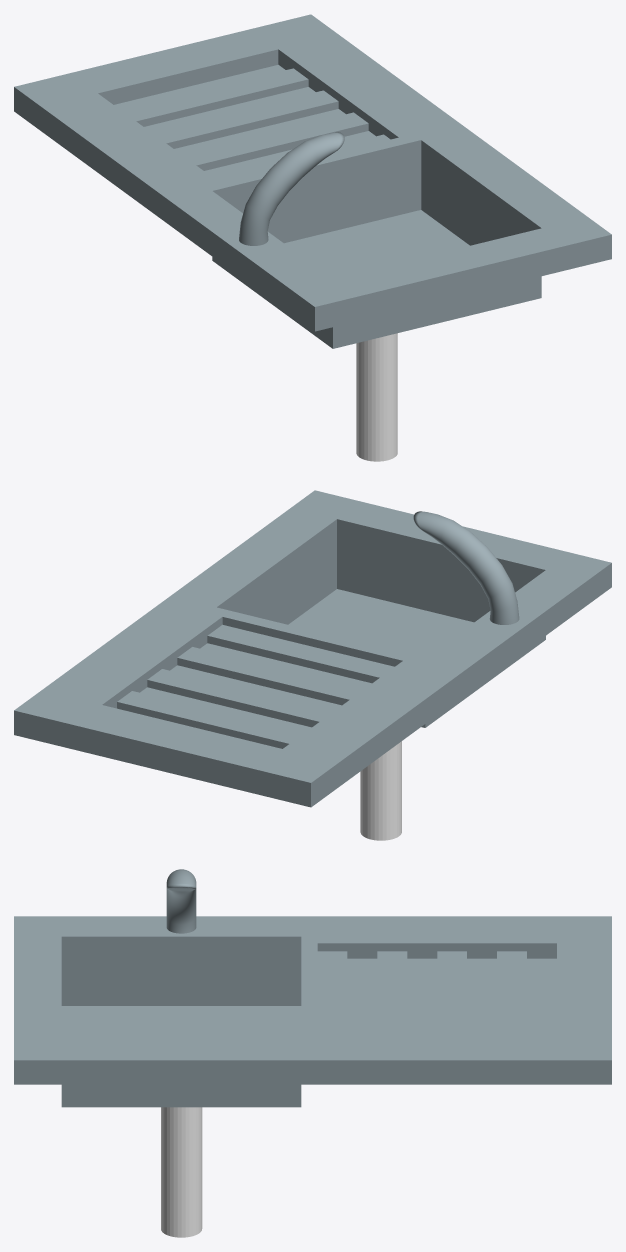
Rendered from Kitchen Sink.fbx.
3 views of the same model, one above another, from view 1: azimuth 30°, elevation 25°; view 2: azimuth 150°, elevation 25°; view 3: azimuth 270°, elevation 25° (orthographic).
Parts seen in each view (by area): view 1: Plane; view 2: Plane; view 3: Plane.
Part boxes in pixels (x1,y1,x2,y2): Plane: [14, 14, 611, 461]; Plane: [14, 490, 611, 840]; Plane: [14, 869, 611, 1237].
Bounding box in the file's own units: 285 × 301 × 499.
